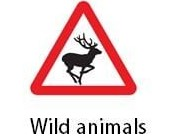Traffic signal: (31, 1, 139, 97)
